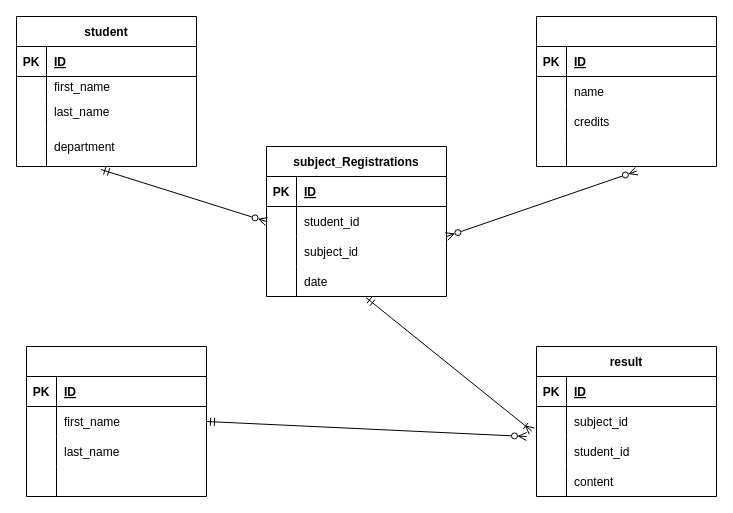
Image size: 733x513. Some labels were removed from this diagram. Each missing label, with the box of its shape:
subjects: (536, 16, 716, 166)
teacher: (26, 346, 206, 496)
